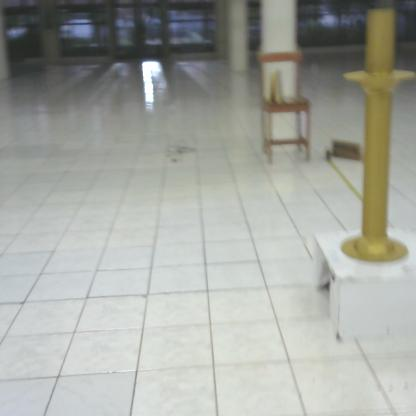pole: (339, 9, 416, 266)
